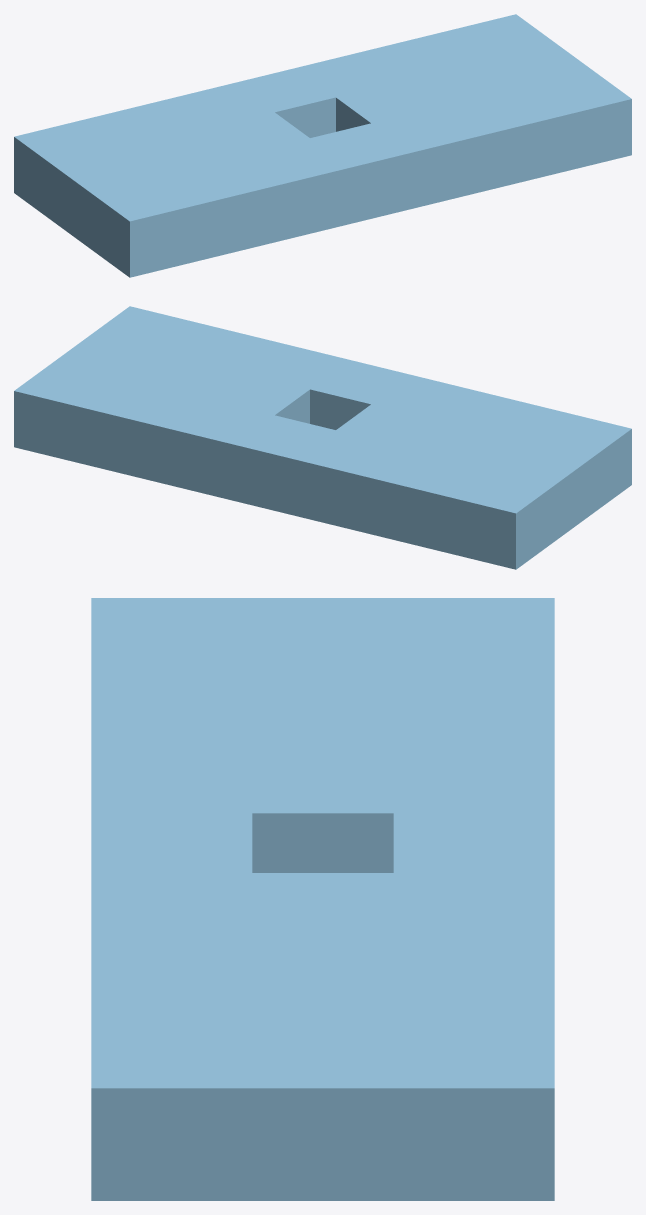
3 renders of one model, top to bottom at view 1: azimuth 30°, elevation 25°; view 2: azimuth 150°, elevation 25°; view 3: azimuth 270°, elevation 25°, orthographic. The views are drawn at different scales.
Parts seen in each view (by area): view 1: 5e66760493b9c113b0e429b9; view 2: 5e66760493b9c113b0e429b9; view 3: 5e66760493b9c113b0e429b9.
Boxes of the visible parts, x1,y1,x2,y2 form: 5e66760493b9c113b0e429b9: [14, 14, 631, 277]; 5e66760493b9c113b0e429b9: [14, 306, 631, 569]; 5e66760493b9c113b0e429b9: [91, 598, 554, 1200].
Bounding box in the file's own units: 0.448 × 0.179 × 0.048.
